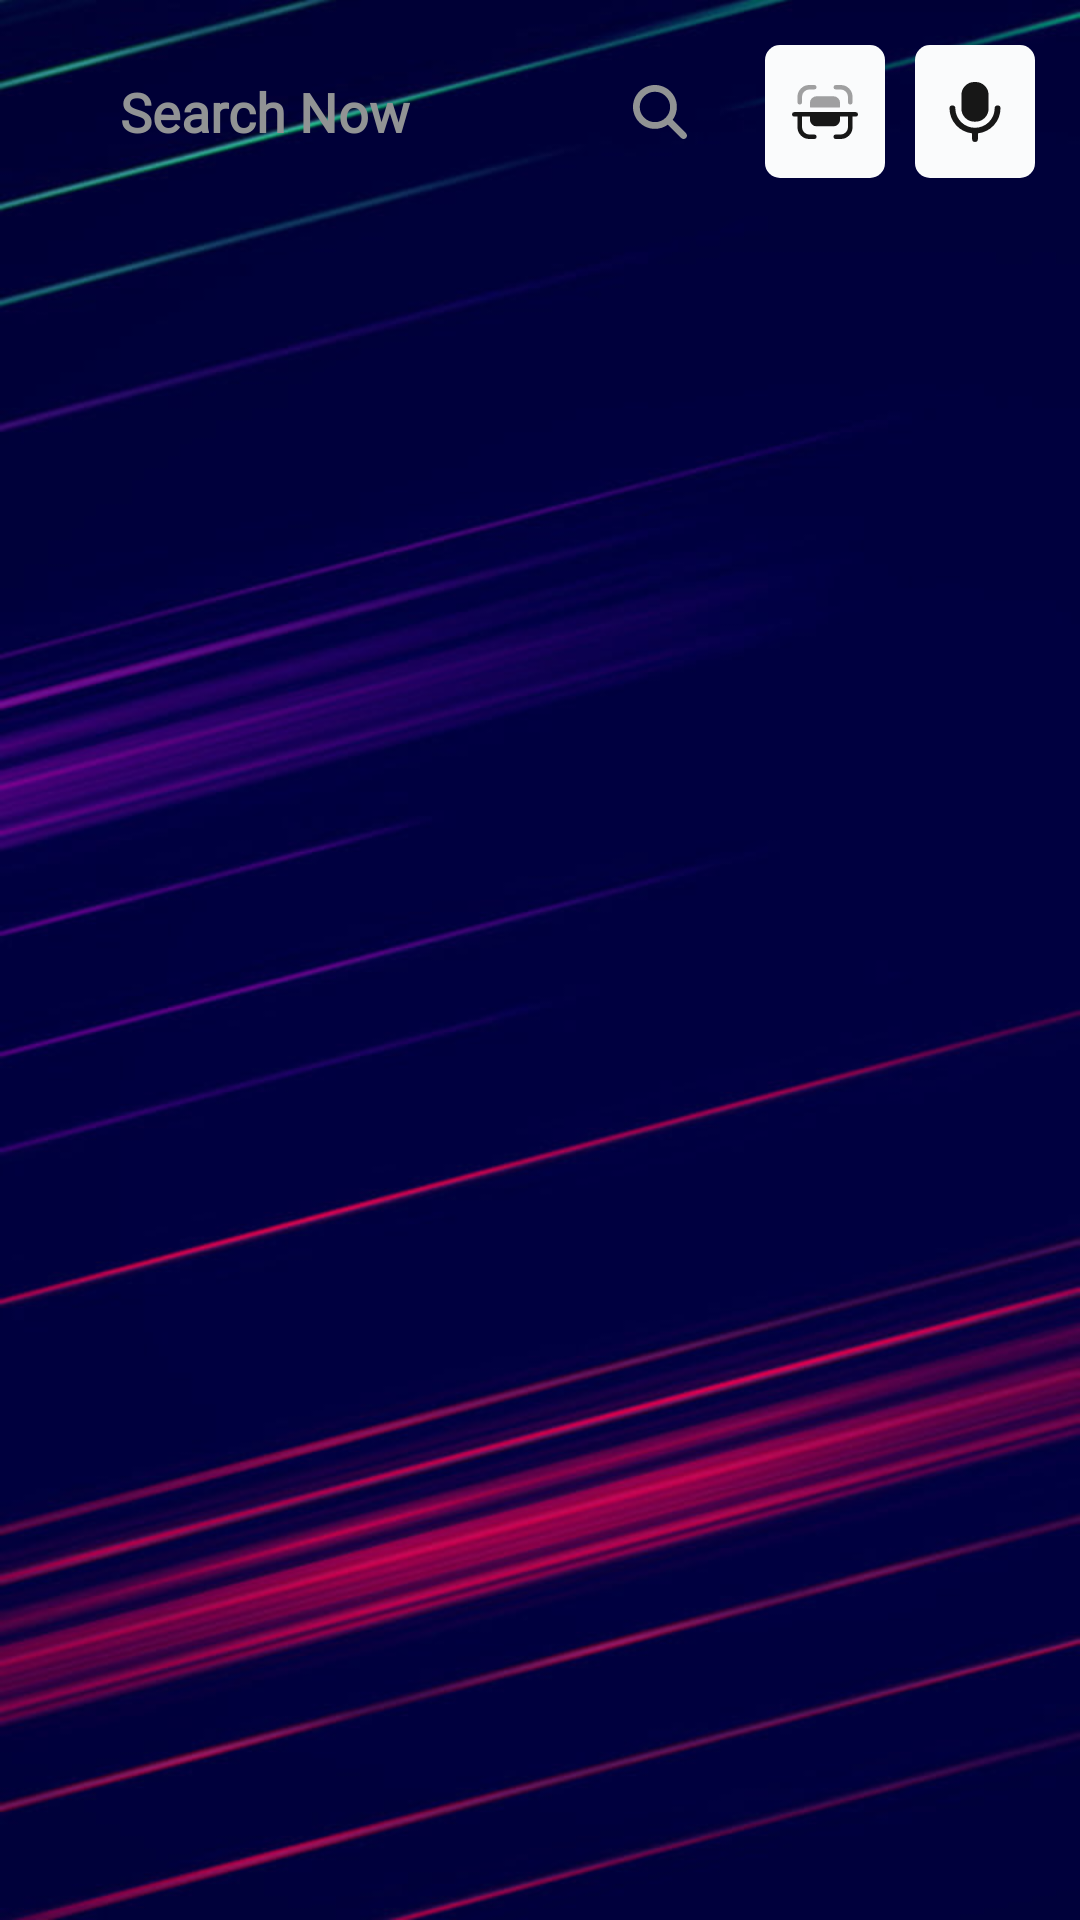

Named icons in this screenshot (1080 × 1920) and their bounding boxes, (x1, y1, x2, y2):
microphone: (915, 45, 1035, 178)
scan: (765, 45, 885, 178)
search: (633, 85, 687, 139)
